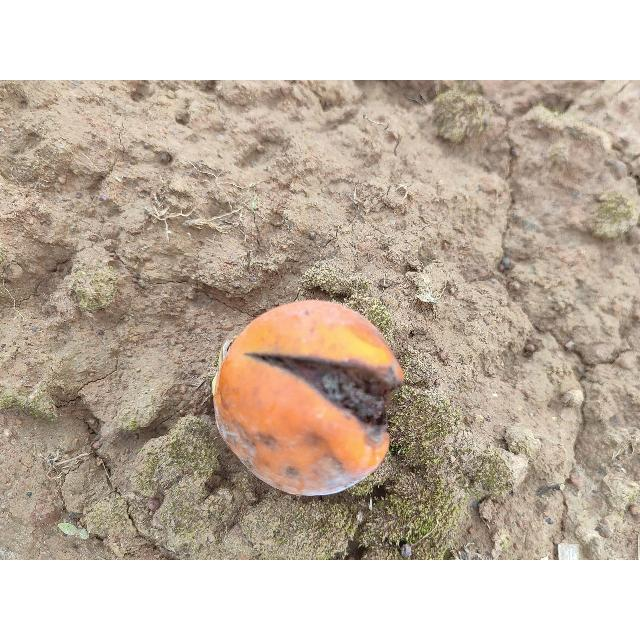damaged: (214, 300, 405, 499)
